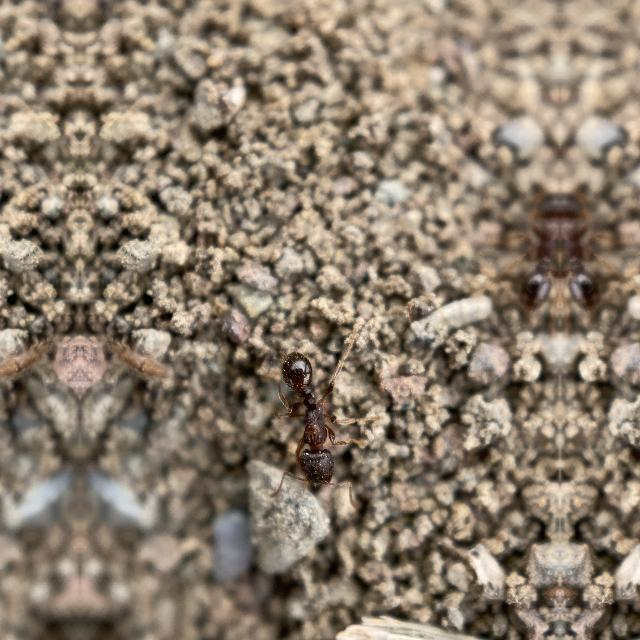Tetramorium: (250, 332, 370, 502), (486, 183, 560, 304), (560, 183, 634, 304)
